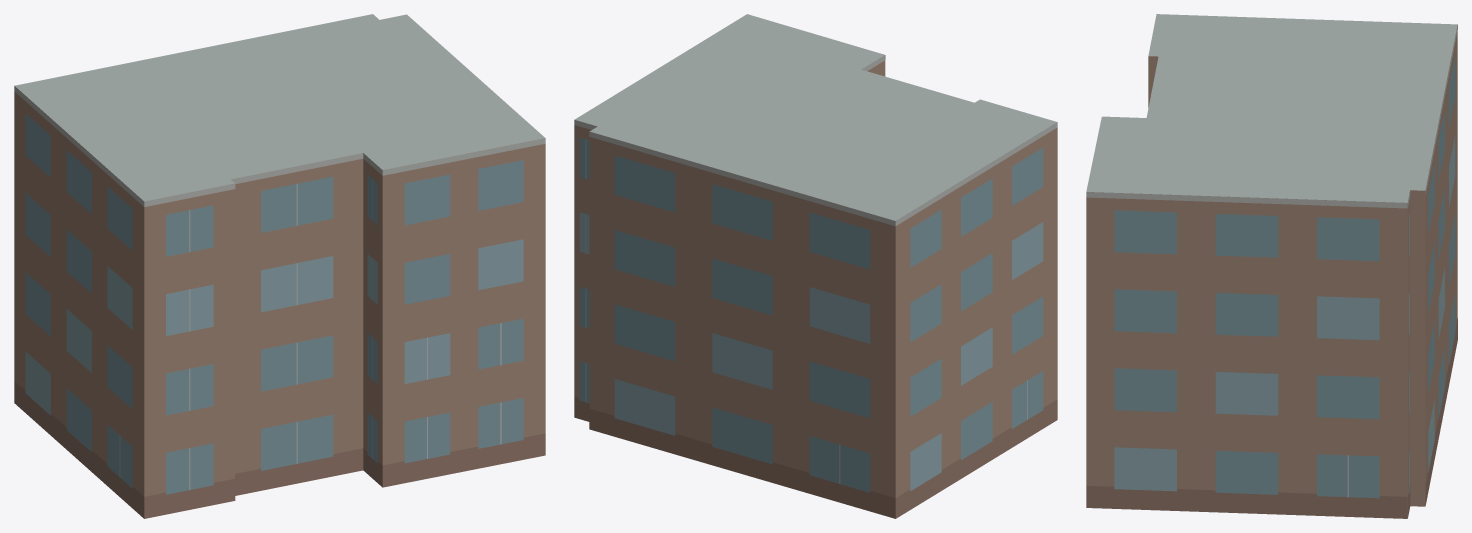
Rendered from survey-upis-32968107.glb.
3 renders of one model, left to right at view 1: azimuth 30°, elevation 25°; view 2: azimuth 150°, elevation 25°; view 3: azimuth 270°, elevation 25°, orthographic. The views are drawn at different scales.
Visible parts, largest first — view 1: survey-upis-32968107.tmp; view 2: survey-upis-32968107.tmp; view 3: survey-upis-32968107.tmp.
Boxes of the visible parts, bbox=[...] form: survey-upis-32968107.tmp: bbox=[14, 14, 545, 518]; survey-upis-32968107.tmp: bbox=[574, 14, 1057, 518]; survey-upis-32968107.tmp: bbox=[1086, 14, 1457, 518].
Bounding box in the file's own units: 17.7 × 13.8 × 14.71.
